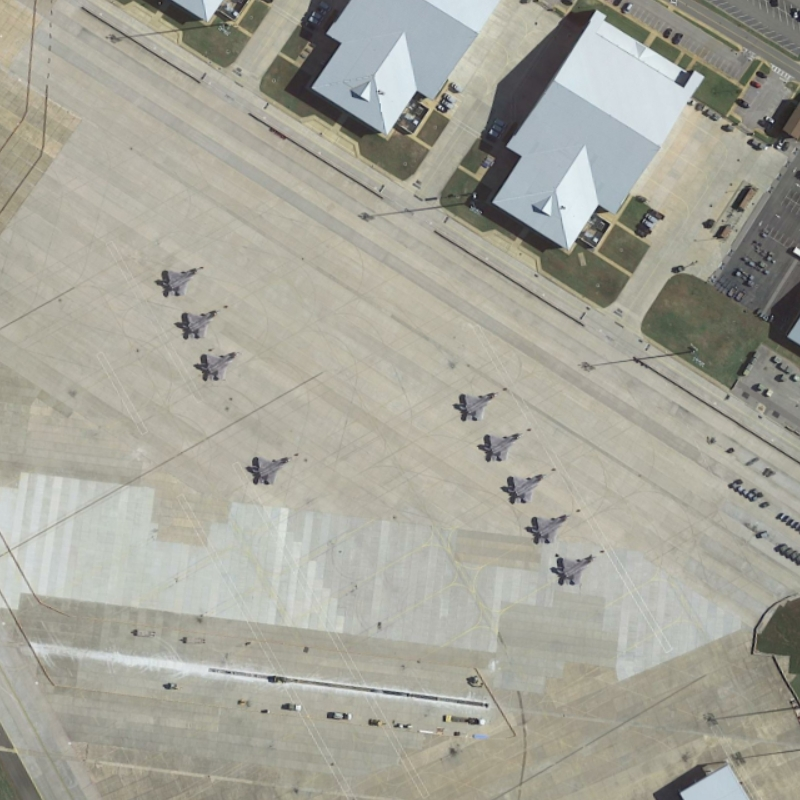A15: (548, 553, 599, 589), (247, 452, 298, 488), (156, 263, 206, 299), (456, 389, 504, 425), (503, 470, 552, 505), (527, 511, 577, 545), (479, 430, 527, 464), (175, 307, 223, 341), (195, 349, 243, 382)
